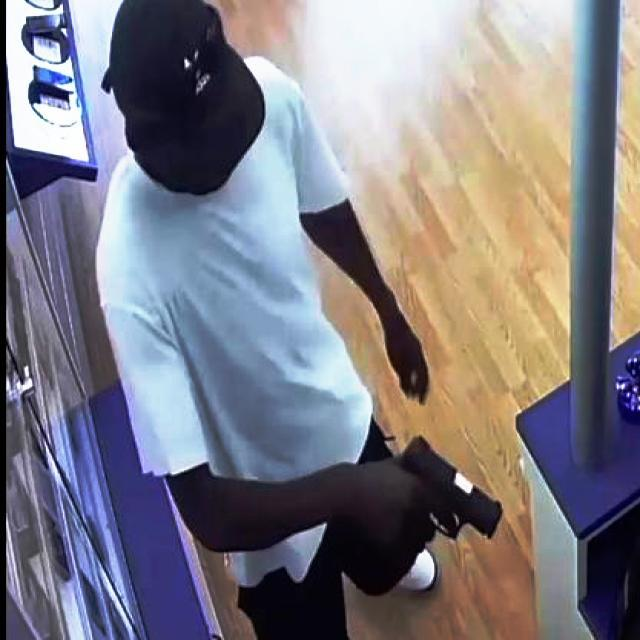Gun: (385, 418, 507, 552)
